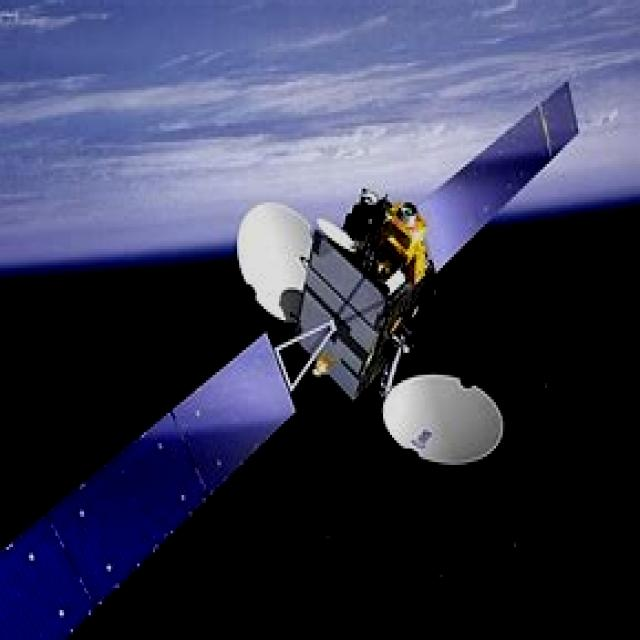satellite: (0, 77, 583, 640)
